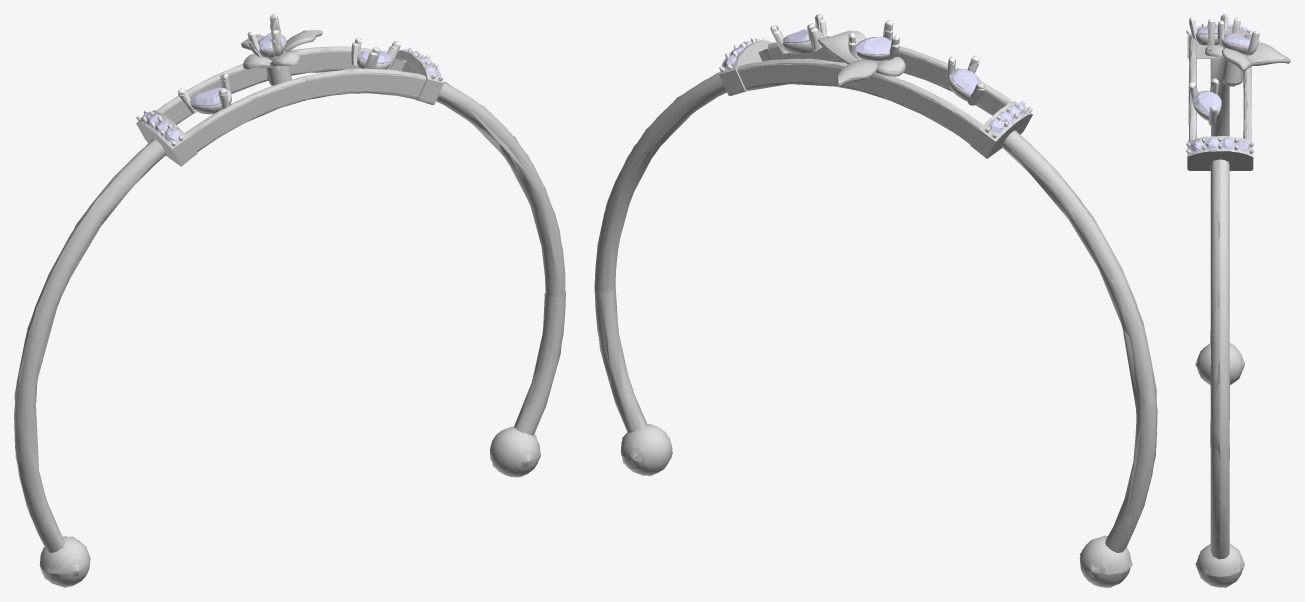
Rendered from DBR-D000684783.glb.
3 views of the same model, side by side, from view 1: azimuth 30°, elevation 25°; view 2: azimuth 150°, elevation 25°; view 3: azimuth 270°, elevation 25° (orthographic). The views are drawn at different scales.
Parts seen in each view (by area): view 1: highPolyMesh, lowPolyMesh; view 2: highPolyMesh, lowPolyMesh; view 3: highPolyMesh, lowPolyMesh.
Boxes of the visible parts, x1,y1,x2,y2 form: highPolyMesh: (14,24,565,587); lowPolyMesh: (14,14,565,587); highPolyMesh: (594,18,1157,587); lowPolyMesh: (594,14,1156,587); highPolyMesh: (1186,20,1290,587); lowPolyMesh: (1186,14,1289,587).
Bounding box in the file's own units: 0.0613 × 0.0536 × 0.0111.
